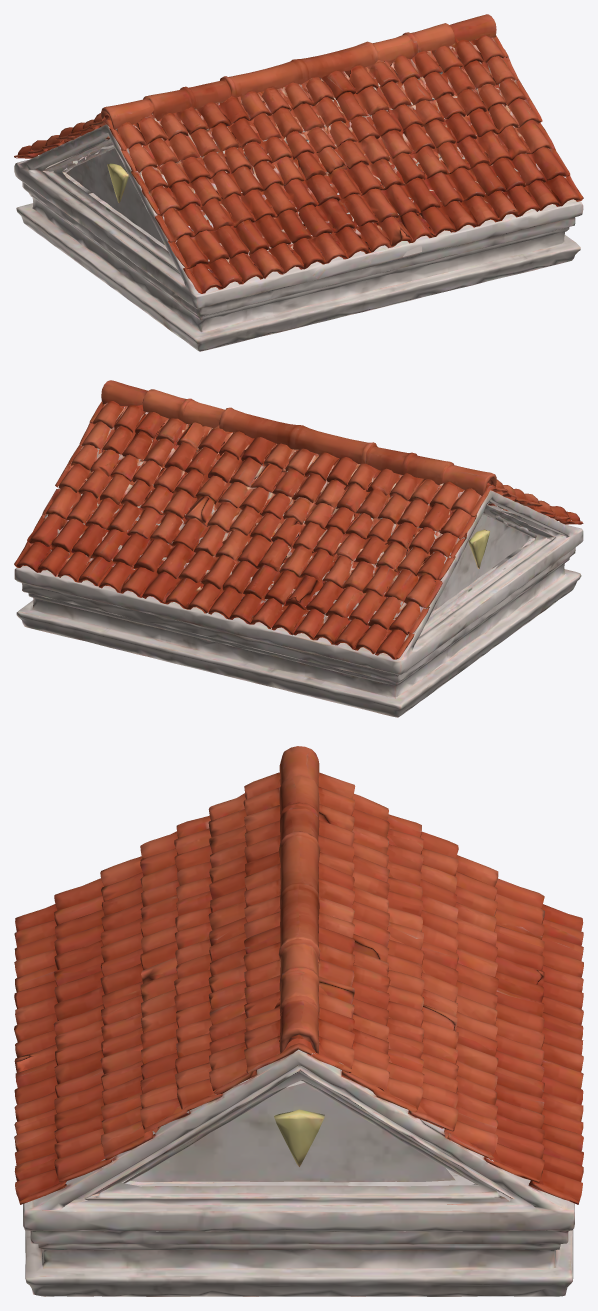
File: roof_terracotta.glb
The picture shows the model from 3 angles, top to bottom: view 1: azimuth 30°, elevation 25°; view 2: azimuth 150°, elevation 25°; view 3: azimuth 270°, elevation 25°; orthographic projection. The views are drawn at different scales.
Visible parts, largest first — view 1: geometry_0; view 2: geometry_0; view 3: geometry_0.
Boxes of the visible parts, bbox=[...] form: geometry_0: bbox=[14, 14, 583, 351]; geometry_0: bbox=[14, 380, 583, 717]; geometry_0: bbox=[14, 746, 583, 1296].
Bounding box in the file's own units: 1 × 0.4495 × 0.8438.
1 material, 1 textured.
